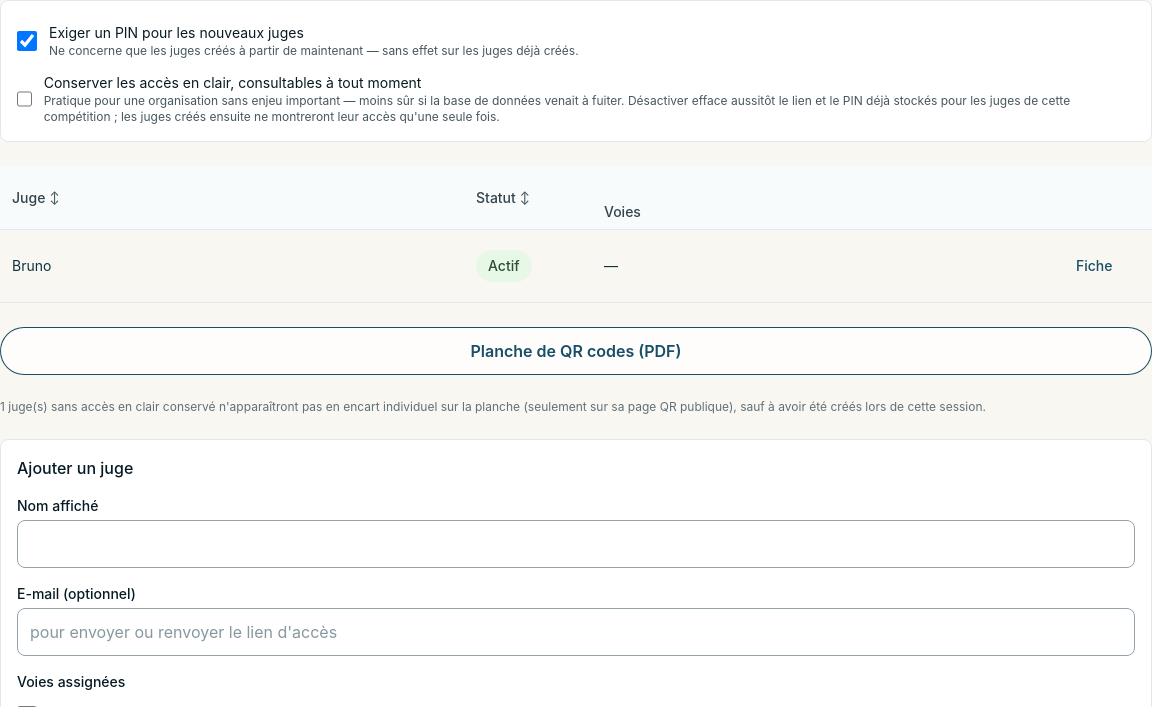
Test: JudgesTab — fiche du juge (Lot 19) › ne montre aucun QR sans accès disponible, et dit quoi faire
Click the button "Fiche" at [1094, 266], box left=1068, top=242, right=1120, bottom=290
(page scrolled)
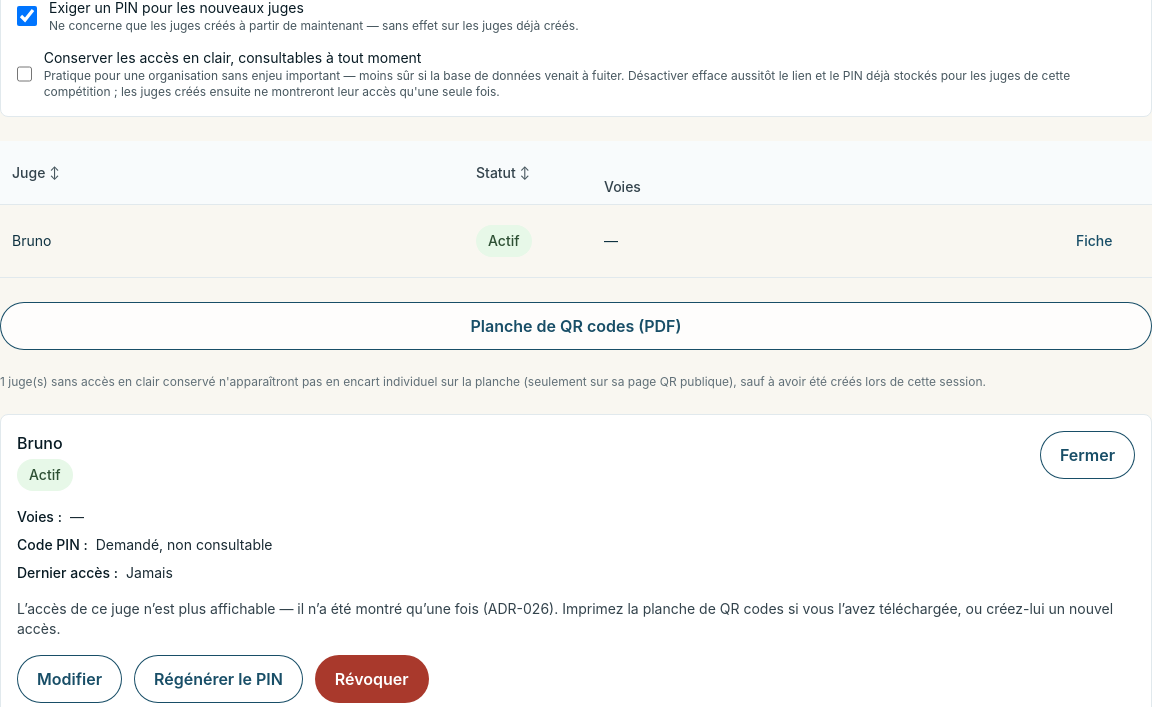
Result: the element with test id "judge-card" shows "n’a été montré qu’une fois" at left=17, top=600, right=1113, bottom=637
